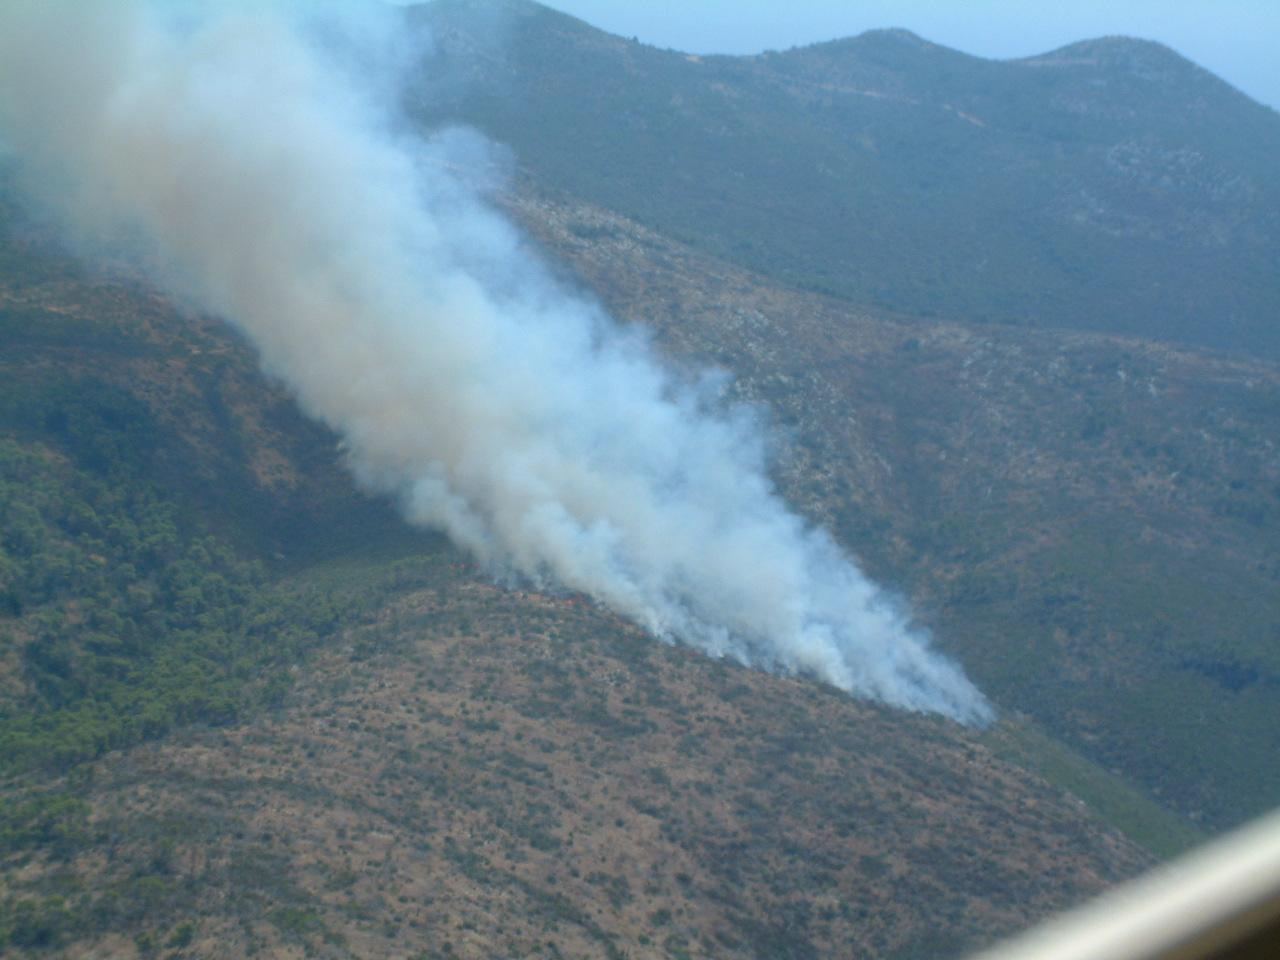Smoke: (3, 3, 996, 727)
